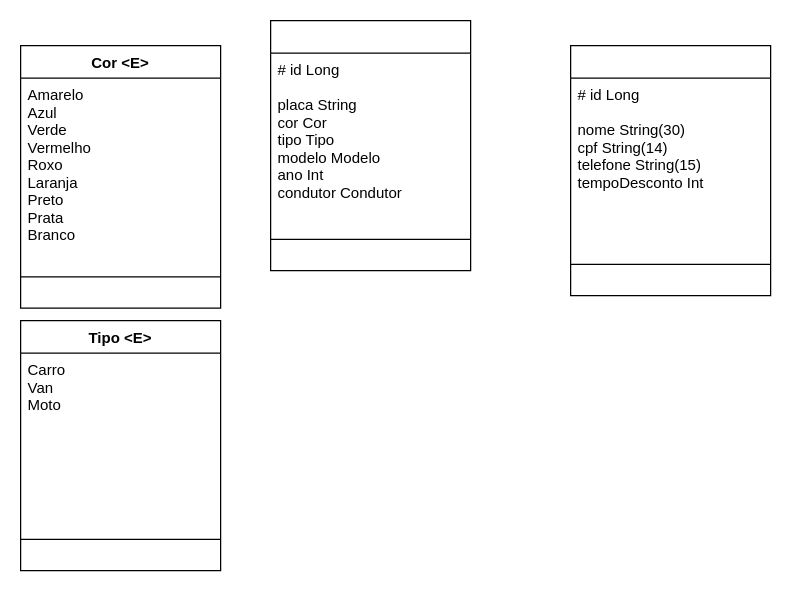
This 791x591 diagram has some shape labels left out. Each missing label, with the box of its shape:
Condutor: (569, 44, 771, 296)
Veiculo: (269, 19, 471, 271)
